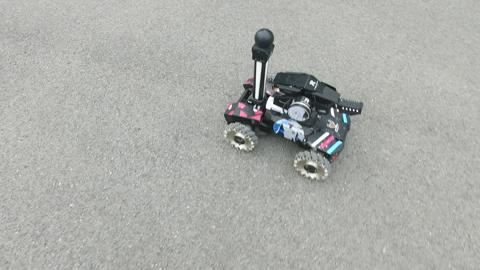chariot: (222, 26, 363, 182)
